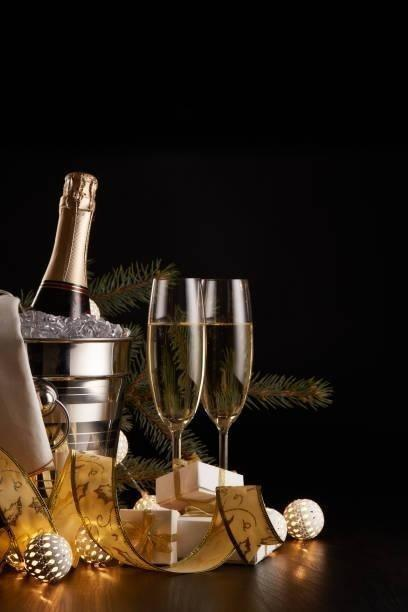glass-wine: (135, 272, 253, 515)
